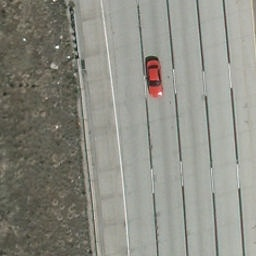car: (144, 59, 166, 97)
